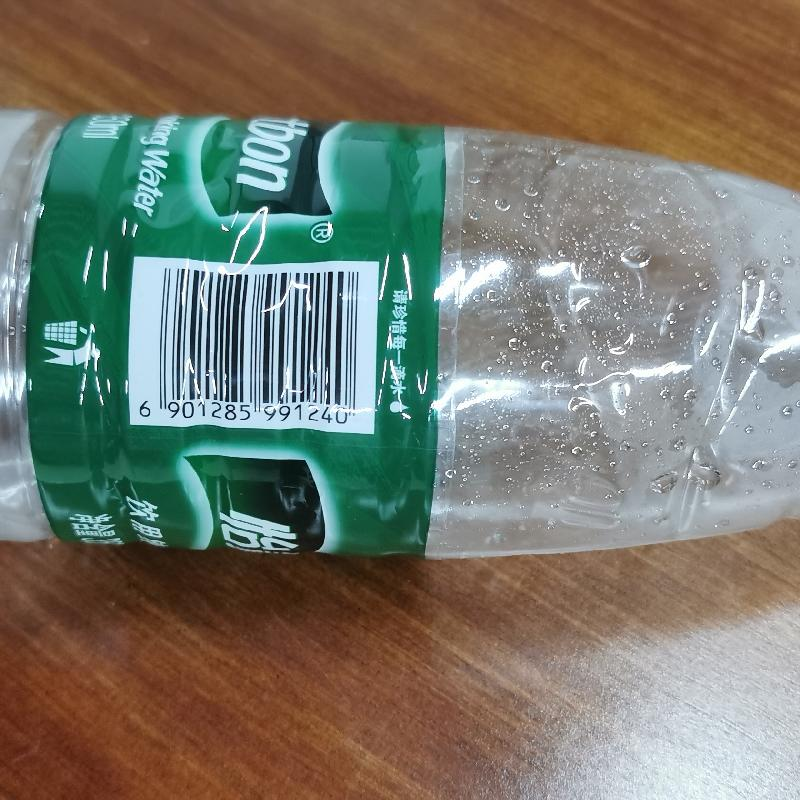bottles: (2, 99, 799, 568)
